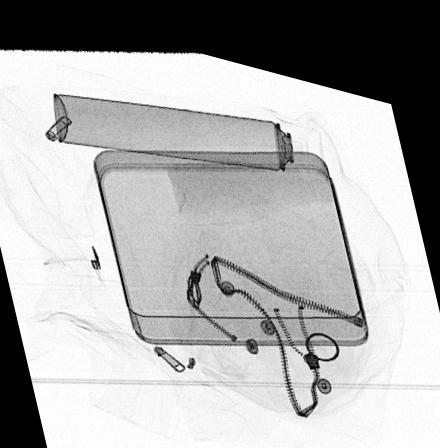Sprayer: (50, 89, 325, 155)
